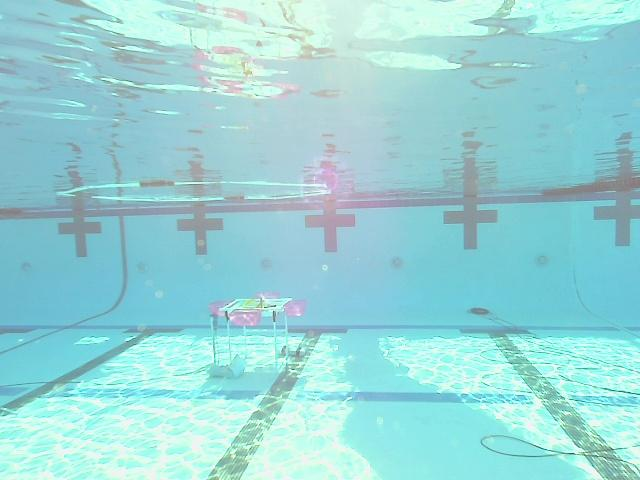table: (209, 292, 307, 376)
